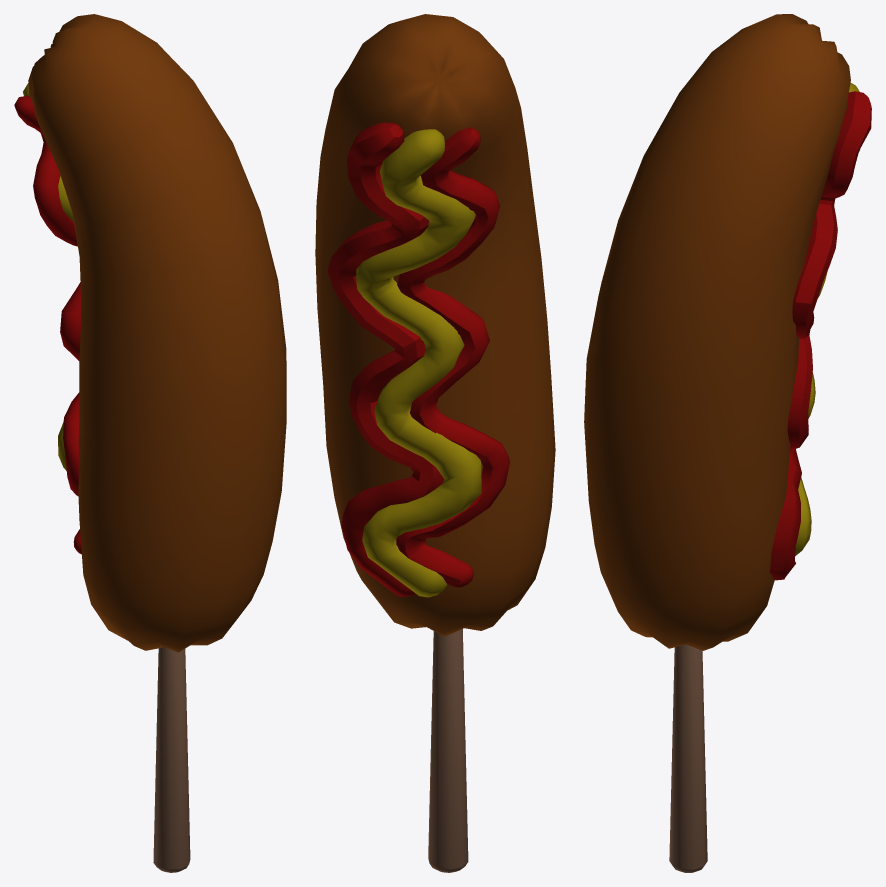
File: Corn Dog.FBX
3 renders of one model, left to right at view 1: azimuth 30°, elevation 25°; view 2: azimuth 150°, elevation 25°; view 3: azimuth 270°, elevation 25°, orthographic. The views are drawn at different scales.
Parts seen in each view (by area): view 1: Corn Dog; view 2: Corn Dog; view 3: Corn Dog.
Part boxes in pixels (left/top/right/bottom): Corn Dog: left=14, top=14, right=286, bottom=872; Corn Dog: left=315, top=14, right=555, bottom=872; Corn Dog: left=584, top=14, right=871, bottom=872.
Size of the model in its own units: 302 by 377 by 1202.
